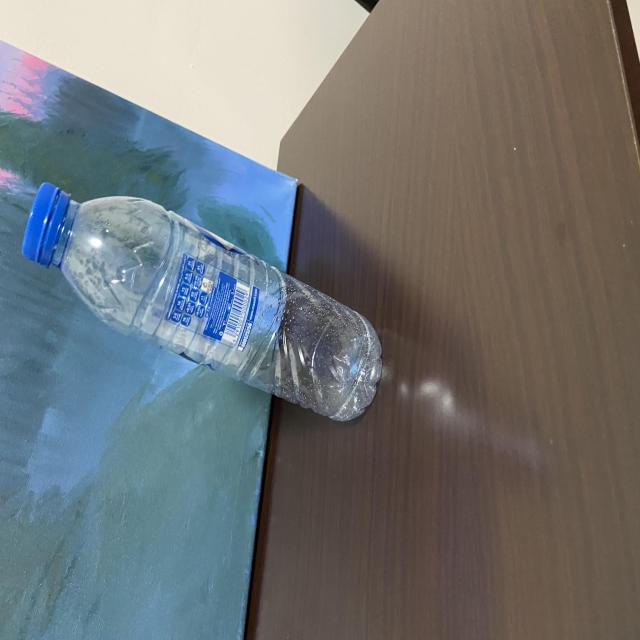plastic: (21, 179, 383, 425)
